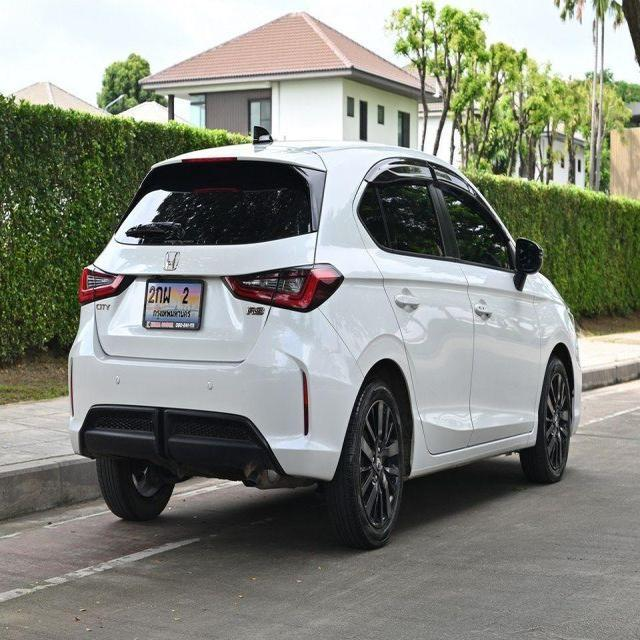Hatchback: (68, 142, 585, 552)
